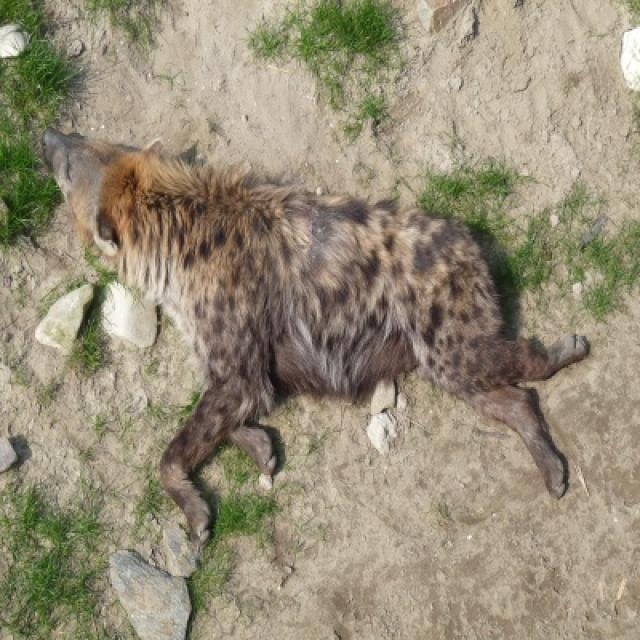hyena: (40, 128, 592, 546)
